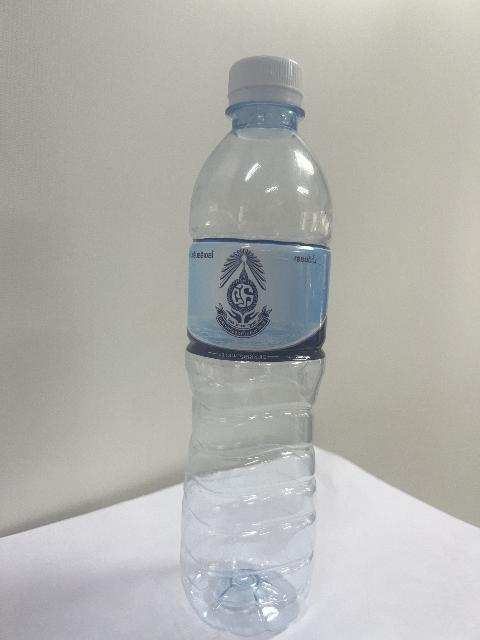bottle: (180, 57, 330, 636)
